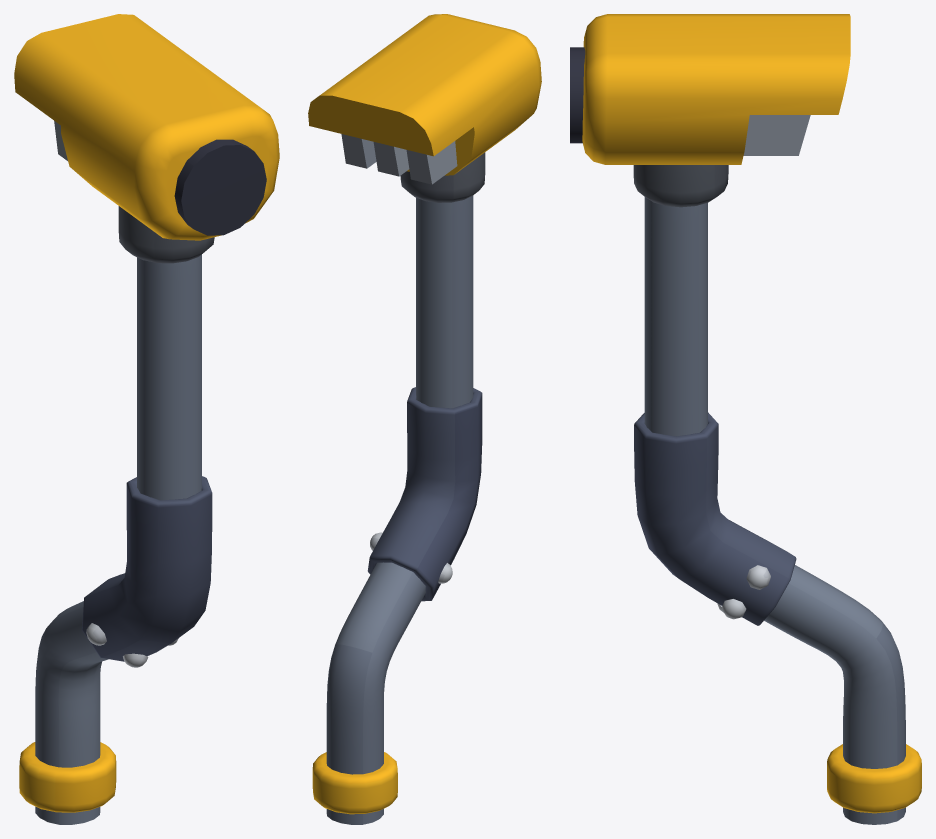
File: SM_Windmill_Body.fbx
3 renders of one model, left to right at view 1: azimuth 30°, elevation 25°; view 2: azimuth 150°, elevation 25°; view 3: azimuth 270°, elevation 25°, orthographic. The views are drawn at different scales.
Visible parts, largest first — view 1: SM_Windmill_Body; view 2: SM_Windmill_Body; view 3: SM_Windmill_Body.
Part boxes in pixels (x1=…): SM_Windmill_Body: x1=14, y1=14, x2=279, y2=824; SM_Windmill_Body: x1=308, y1=14, x2=541, y2=824; SM_Windmill_Body: x1=570, y1=14, x2=921, y2=824.
Size of the model in its own units: 68.64 by 367 by 151.
